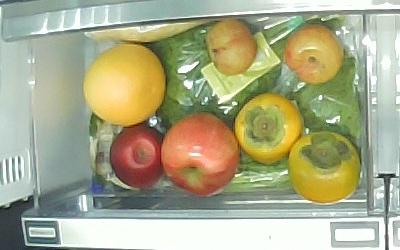apple: (162, 111, 239, 196), (110, 124, 166, 188)
grapefruit: (83, 43, 167, 126)
persimmon: (288, 131, 360, 203), (235, 93, 305, 166)
prune: (284, 23, 344, 84), (207, 19, 257, 76)
